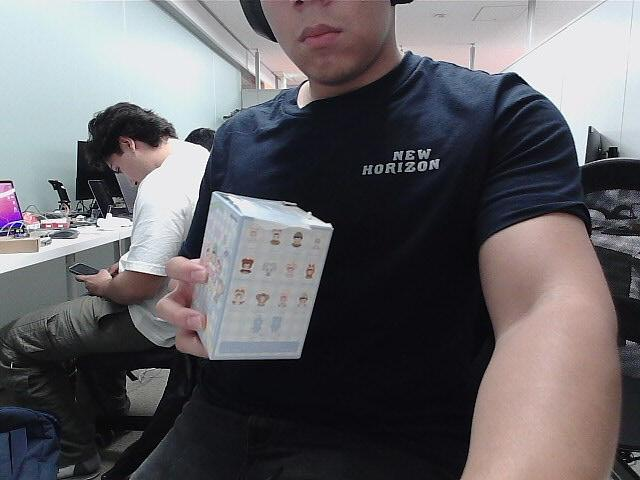Blind_box: (201, 190, 332, 390)
